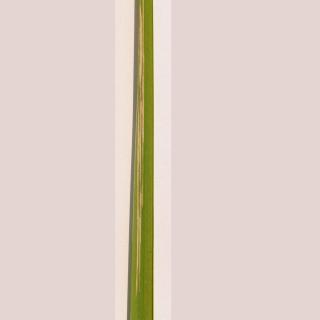Hawar-Daun: (126, 0, 160, 286)
